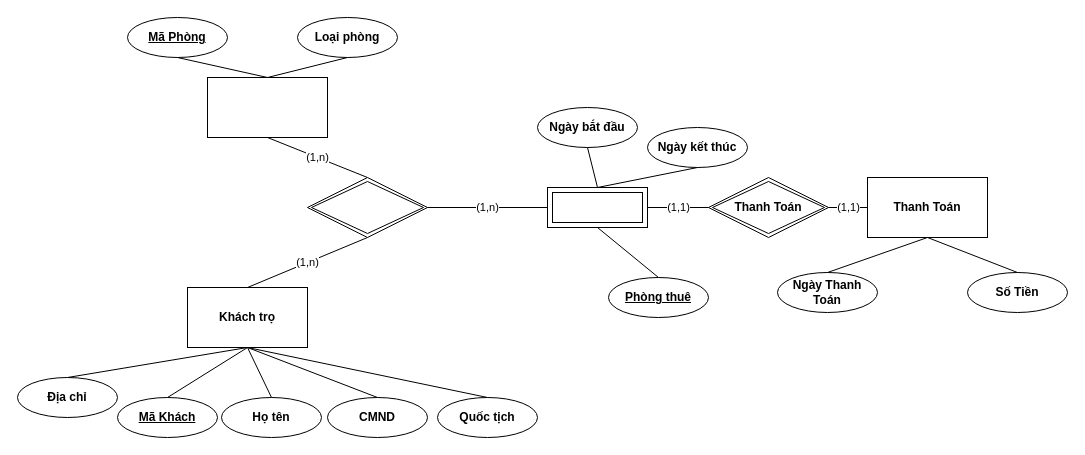
Image size: 1085x455. Some labels were removed from this diagram. The box of each missing label's shape, as (x1, y1, x2, y2) in pixels:
Lần Thuê: (546, 186, 648, 228)
Phòng: (206, 76, 328, 138)
Thuê: (306, 176, 428, 238)
